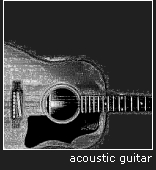guitar: (4, 42, 151, 148)
